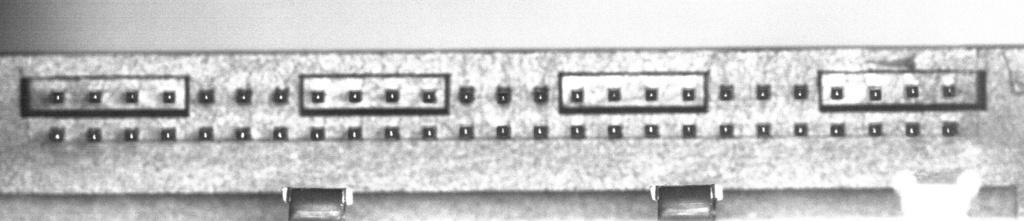pin_ok: (532, 85, 550, 103), (495, 86, 512, 104), (271, 86, 289, 103), (458, 85, 475, 103), (941, 121, 959, 137), (235, 87, 252, 103), (48, 126, 65, 142), (197, 88, 215, 103), (719, 84, 734, 100), (756, 84, 771, 100), (86, 127, 102, 142), (905, 122, 921, 137), (496, 124, 511, 139), (198, 126, 213, 141), (793, 84, 808, 99), (569, 88, 584, 103), (941, 83, 956, 98), (756, 122, 772, 136), (532, 125, 548, 139), (234, 126, 250, 140), (607, 124, 623, 138), (681, 123, 697, 137), (570, 124, 586, 138), (421, 125, 437, 139), (829, 123, 845, 137), (794, 122, 809, 136), (346, 126, 361, 140), (458, 125, 473, 139), (644, 123, 659, 137), (682, 87, 696, 102), (310, 89, 325, 103), (868, 122, 883, 136), (422, 89, 437, 103), (385, 88, 400, 102), (161, 90, 176, 104), (50, 89, 65, 103), (719, 123, 733, 137), (644, 87, 658, 101), (348, 89, 362, 103), (607, 87, 621, 101), (830, 86, 844, 100), (905, 84, 919, 98), (310, 127, 325, 140), (273, 127, 288, 140), (160, 128, 175, 141), (384, 126, 399, 139), (124, 128, 139, 141), (87, 90, 102, 103), (869, 87, 882, 101), (125, 90, 138, 103)
